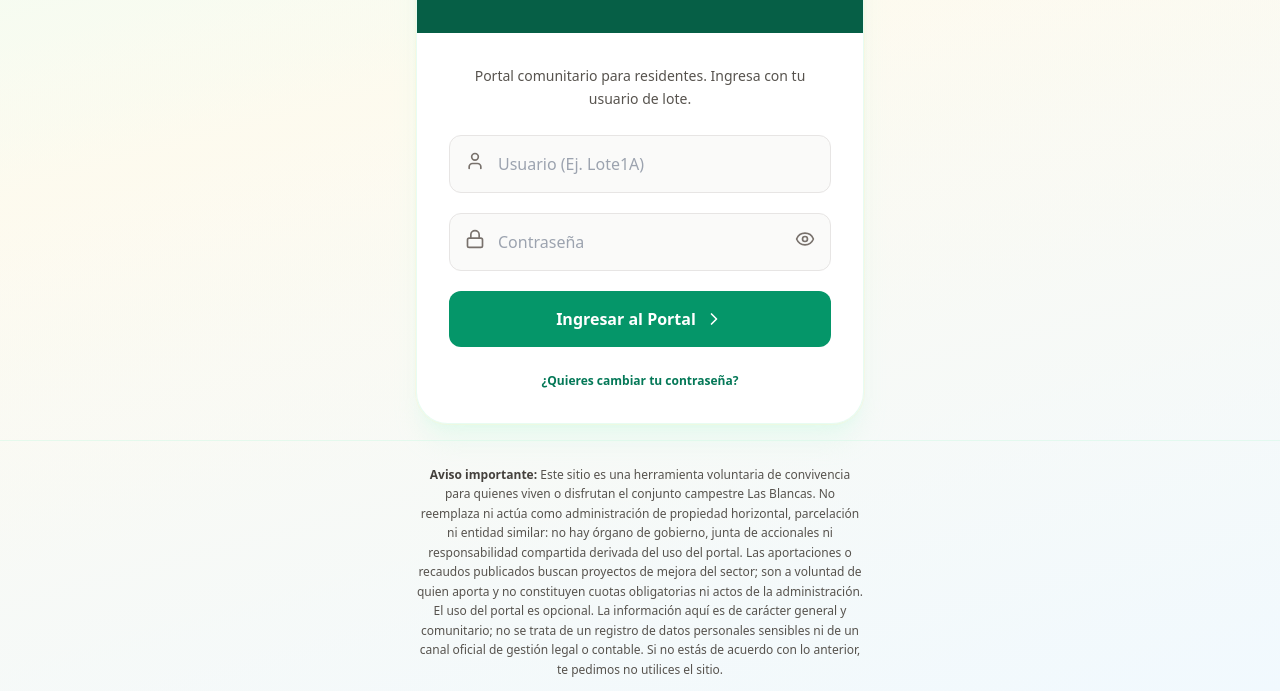
LoginView — modo cambiar contraseña › regresa al modo de login al hacer click en "Volver al ingreso"
(page scrolled)
Click the button "¿Quieres cambiar tu contraseña?" at point(640, 380), box [449,372,831,388]
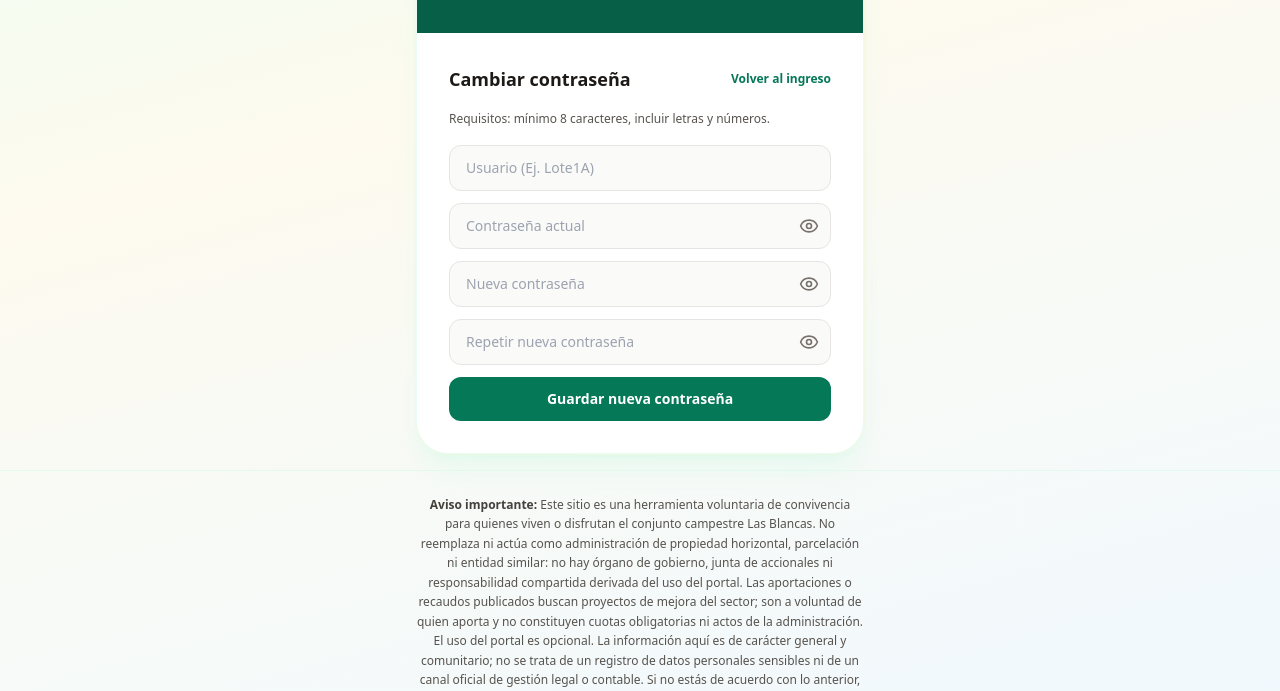
Click the button "Volver al ingreso" at point(781, 79), box [731,71,831,87]
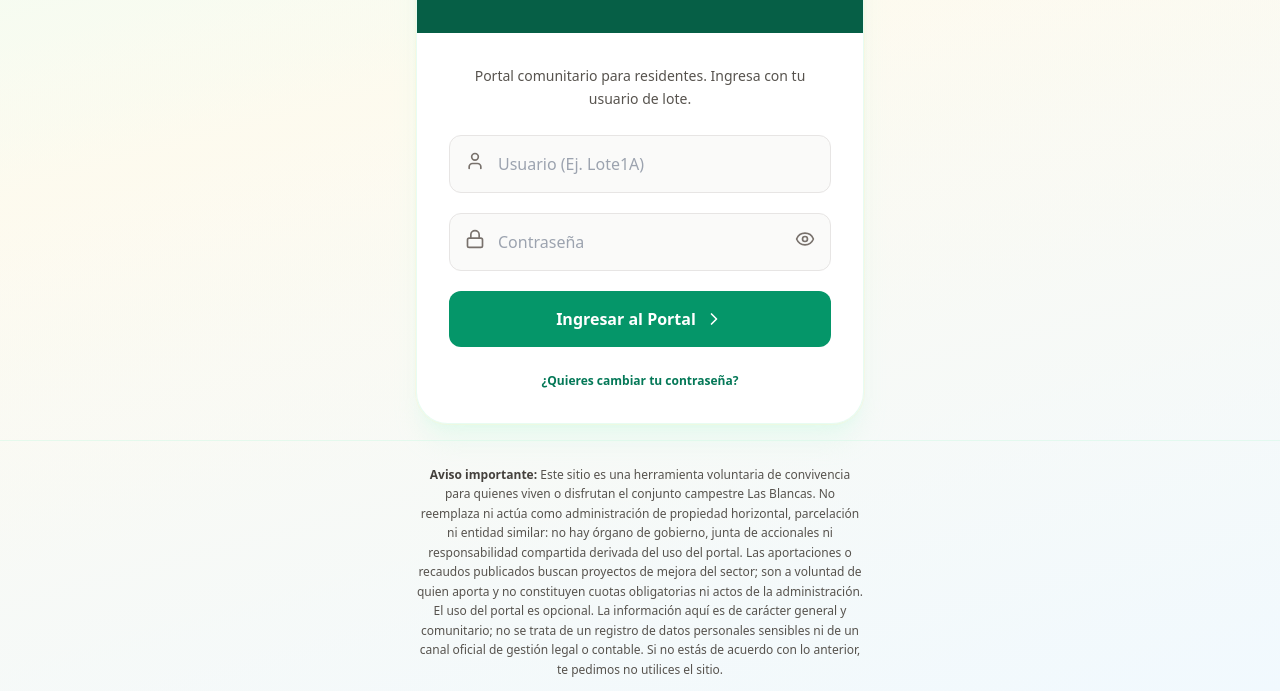
Expected: the button "Ingresar al Portal" is shown, [449,290,831,346]
